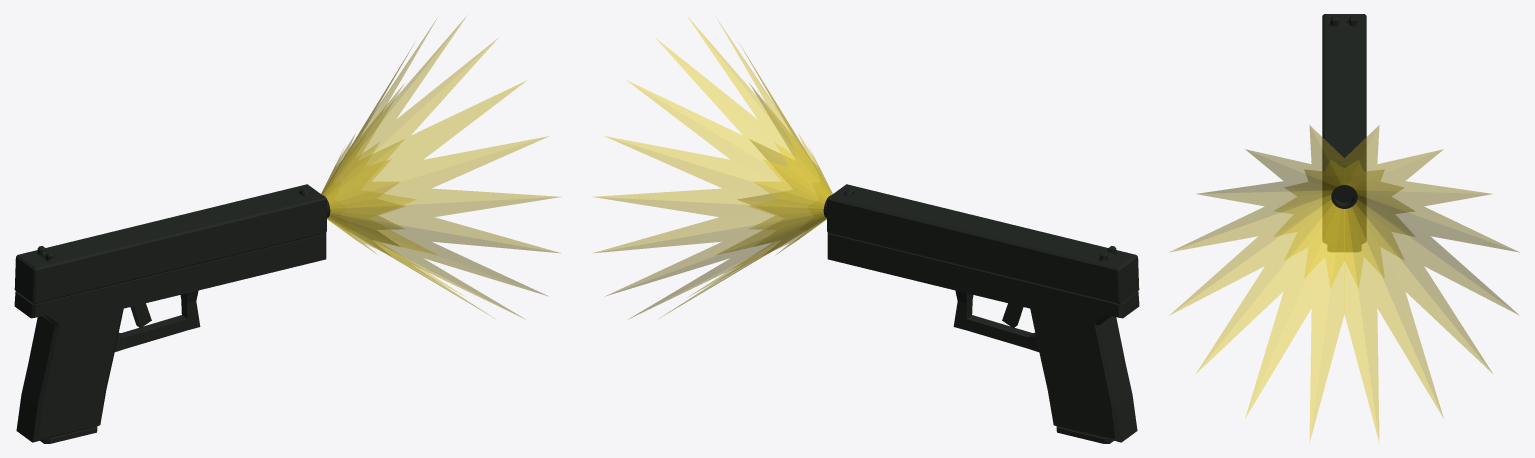
Rendered from WeaponPistol.fbx.
3 renders of one model, left to right at view 1: azimuth 30°, elevation 25°; view 2: azimuth 150°, elevation 25°; view 3: azimuth 270°, elevation 25°, orthographic. The views are drawn at different scales.
Parts seen in each view (by area): view 1: PistolBlast2, PistolBase, PistolUpper, PistolBlast; view 2: PistolBlast2, PistolBase, PistolUpper, PistolBlast; view 3: PistolBlast2, PistolBlast, PistolUpper, PistolBase, PistolBarrel.
Boxes of the visible parts, <box> form: PistolBlast2: <box>322,16,561,319</box>; PistolBase: <box>14,232,326,442</box>; PistolUpper: <box>14,184,326,304</box>; PistolBlast: <box>321,133,405,256</box>; PistolBlast2: <box>592,16,831,319</box>; PistolBase: <box>827,232,1139,442</box>; PistolUpper: <box>827,184,1139,304</box>; PistolBlast: <box>748,133,832,256</box>; PistolBlast2: <box>1169,125,1519,443</box>; PistolBlast: <box>1274,160,1414,287</box>; PistolUpper: <box>1322,14,1366,212</box>; PistolBase: <box>1322,212,1366,247</box>; PistolBarrel: <box>1331,182,1357,208</box>.
Bounding box in the file's own units: 55.67 × 35.22 × 32.82.
